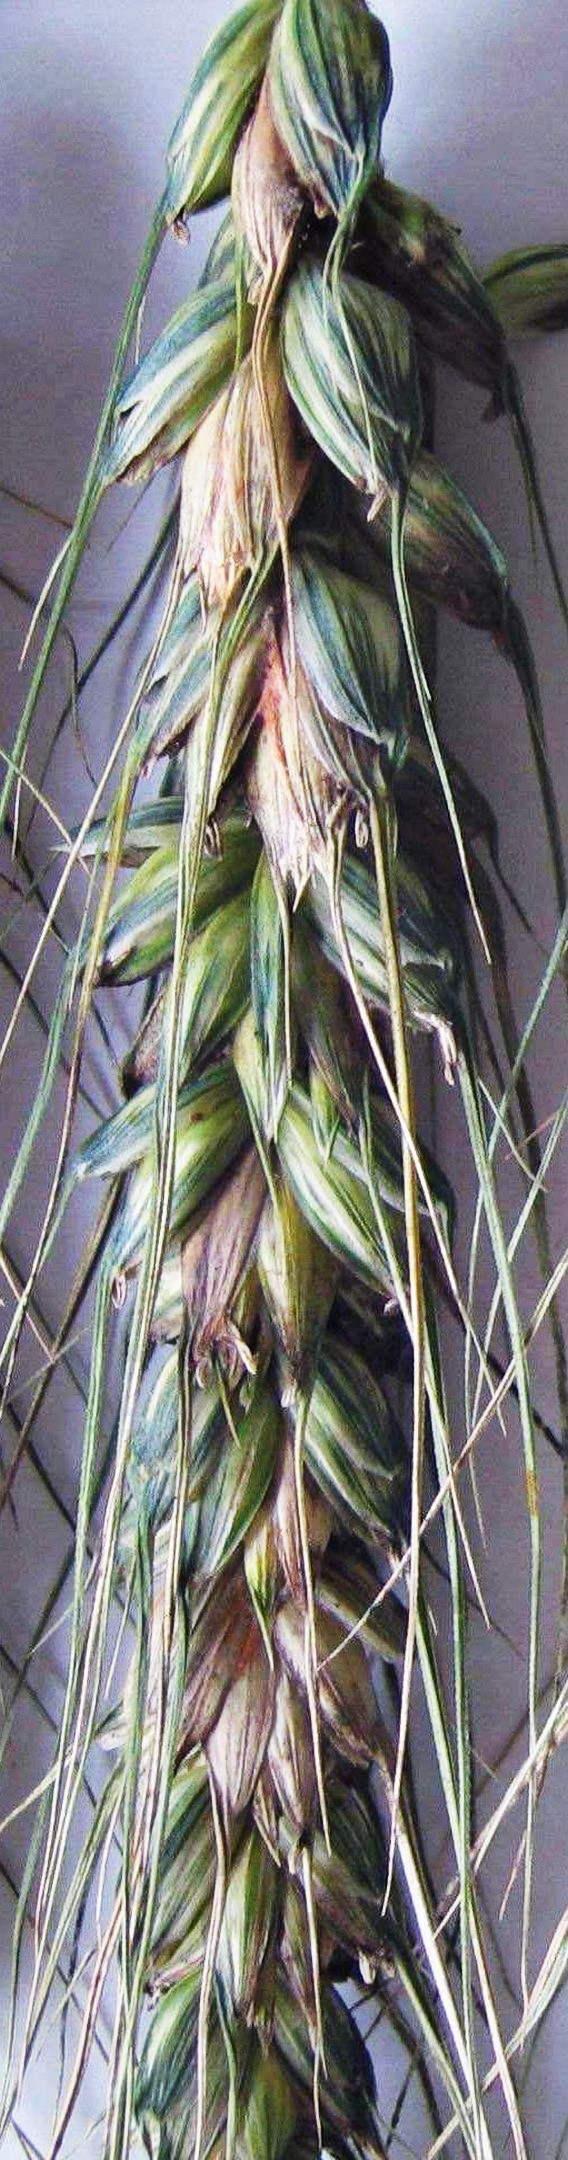Wheat scab: (29, 47, 546, 2137)
